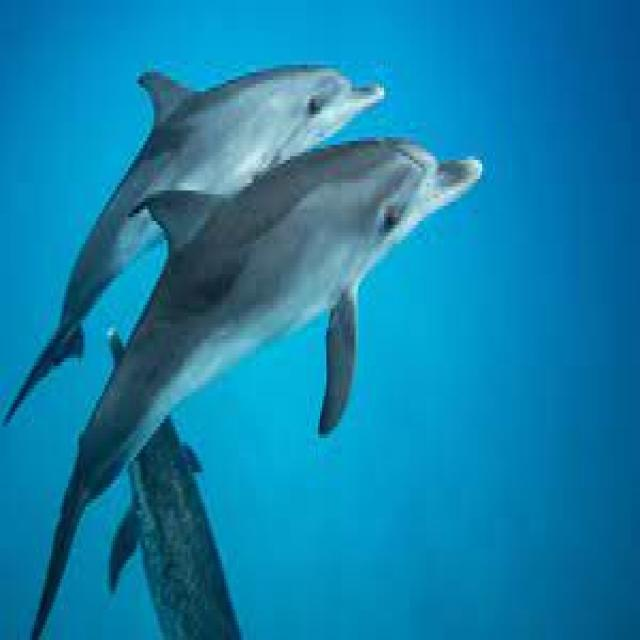dolphin: (17, 145, 491, 640), (0, 0, 386, 385)
